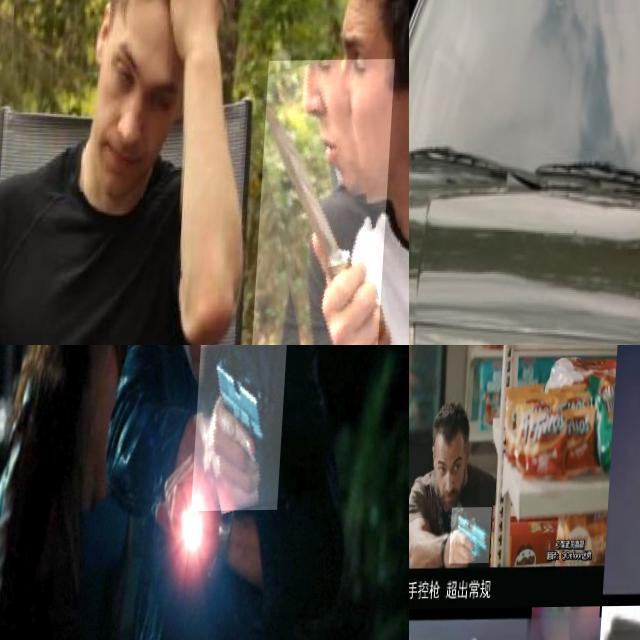-: (256, 60, 397, 345)
gun-knife-thesis - v11 Yolov5 augmented: (196, 345, 290, 512), (409, 39, 458, 229), (452, 508, 494, 564)
